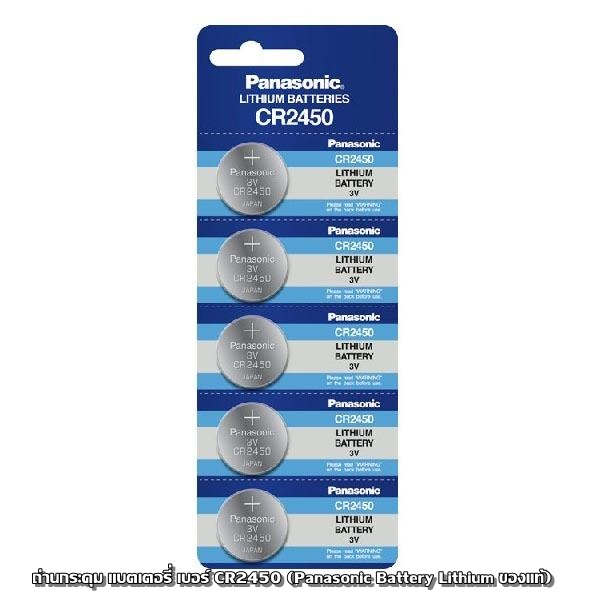Battery: (213, 138, 293, 218), (214, 313, 293, 394), (213, 485, 292, 566), (213, 400, 291, 482), (213, 226, 291, 306)
